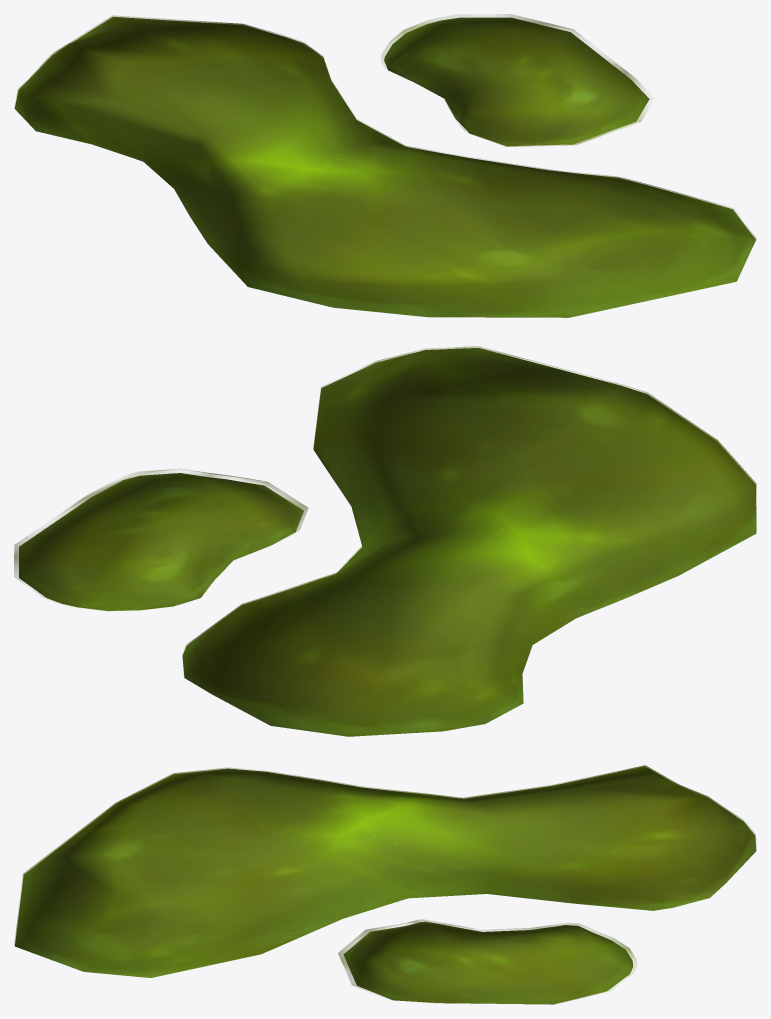
3 renders of one model, top to bottom at view 1: azimuth 30°, elevation 25°; view 2: azimuth 150°, elevation 25°; view 3: azimuth 270°, elevation 25°, orthographic. The views are drawn at different scales.
Bounding box in the file's own units: 3.09 × 0.1628 × 4.31.
2 materials, 2 textured.
